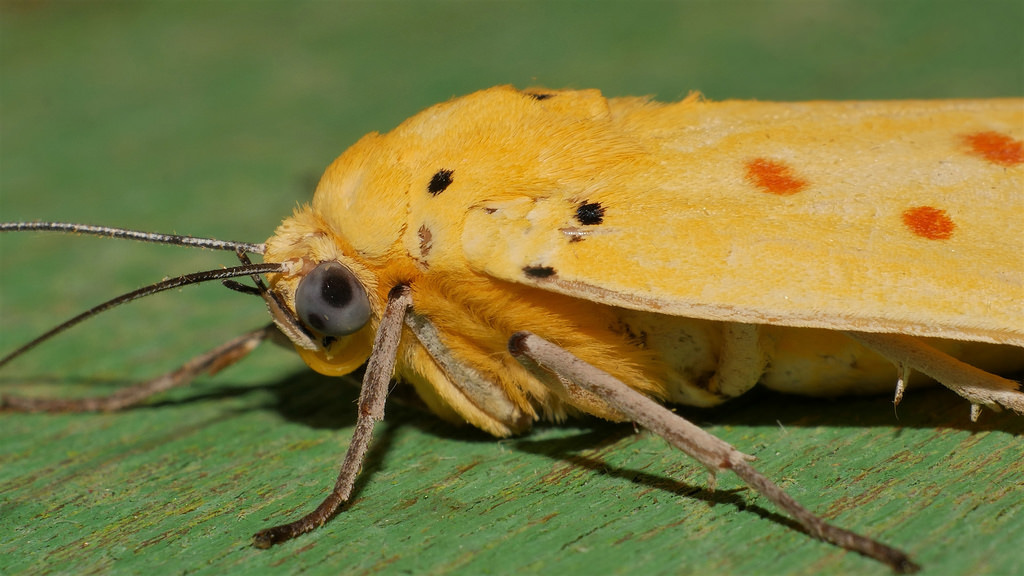Agape chloropyga: (4, 77, 1022, 574)
moth: (2, 75, 1020, 572)
